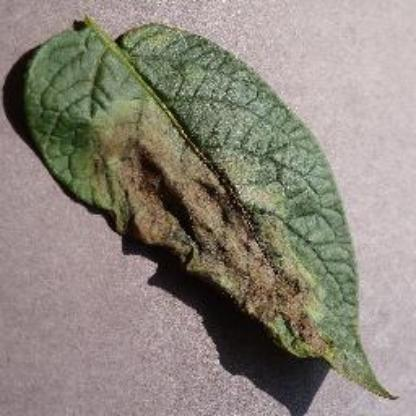Late-Blight: (14, 10, 402, 406)
